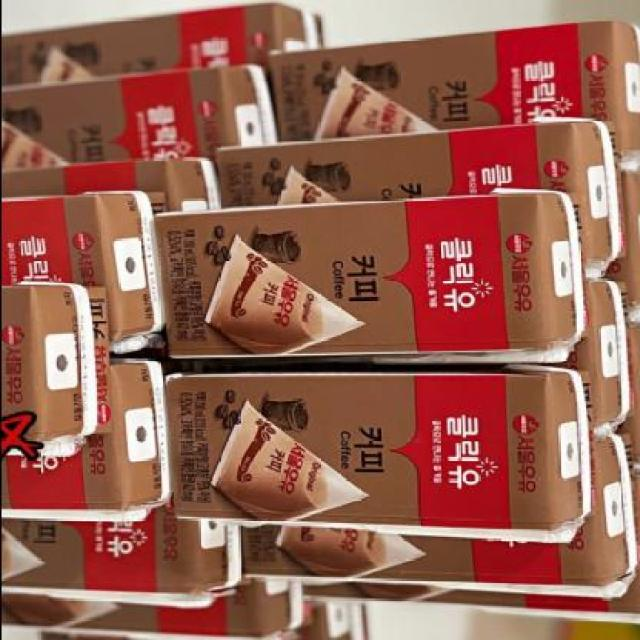tetra: (146, 173, 589, 370), (149, 367, 613, 545)
